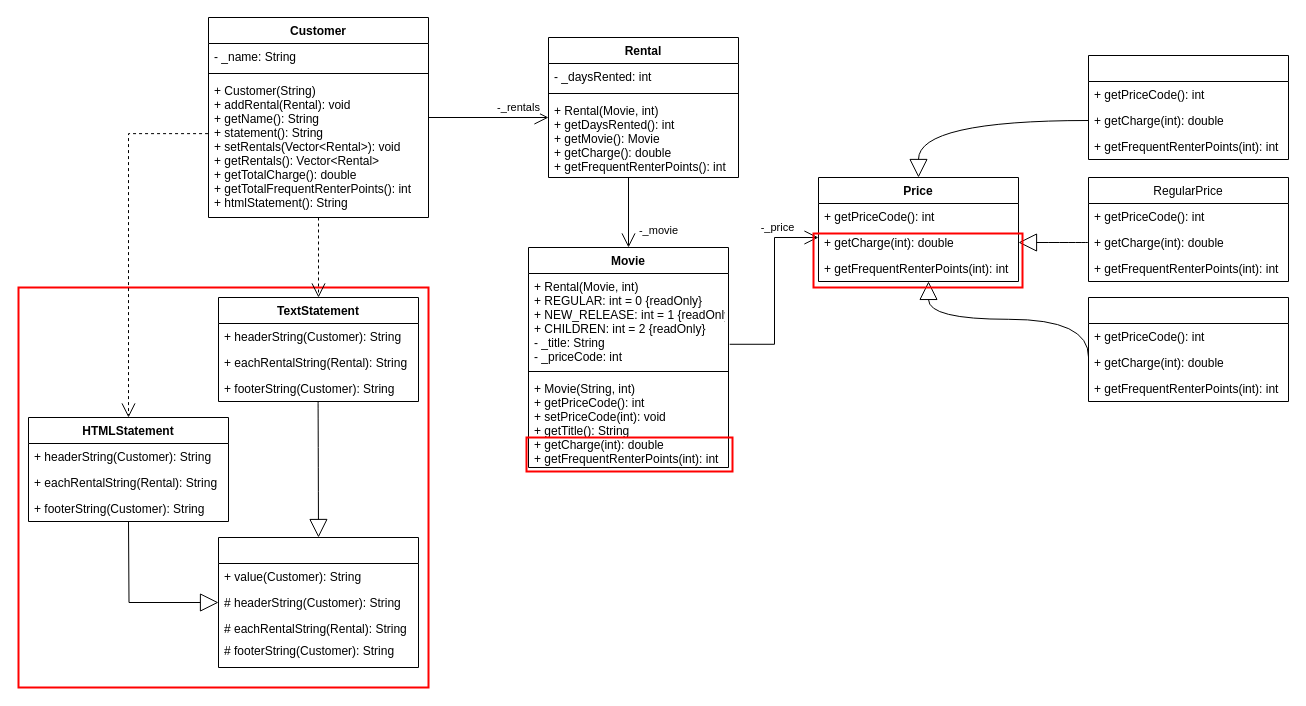
This 1306x706 diagram has some shape labels left out. The box of each missing label's shape, as (x1, y1, x2, y2) in pixels:
ChildrenPrice: (1088, 54, 1288, 160)
NewReleasePrice: (1088, 296, 1288, 402)
Statement: (218, 536, 418, 668)
